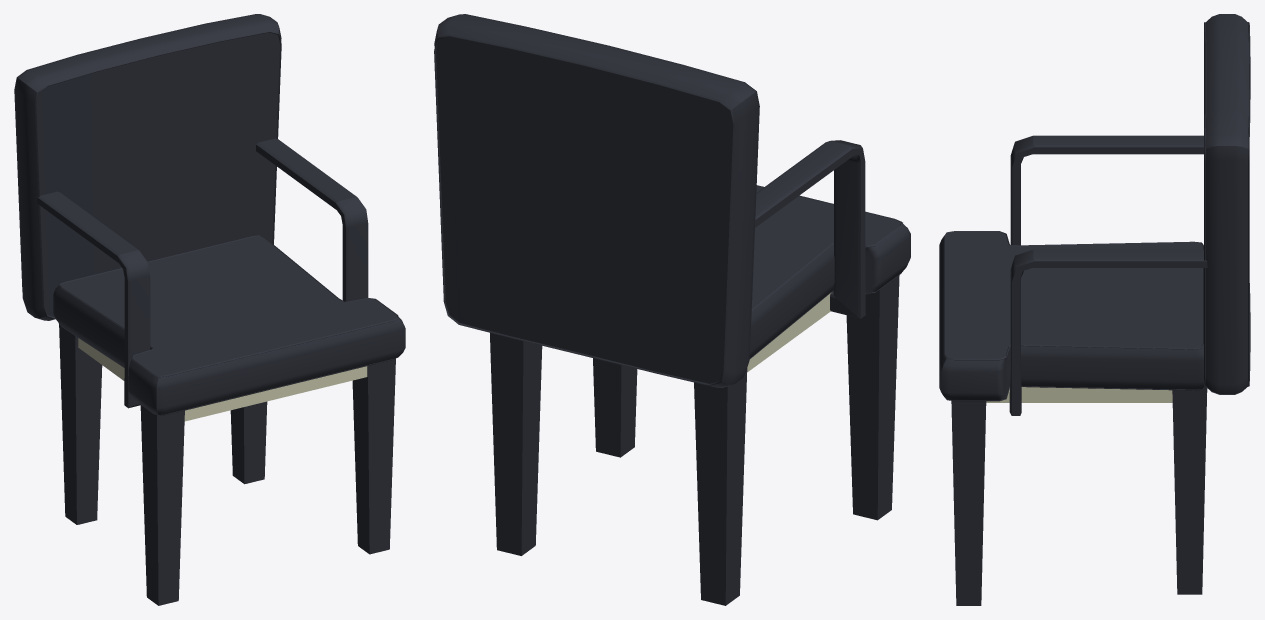
The model's file is m_duck_chair_lod1.fbx.
3 renders of one model, left to right at view 1: azimuth 30°, elevation 25°; view 2: azimuth 150°, elevation 25°; view 3: azimuth 270°, elevation 25°, orthographic. The views are drawn at different scales.
Visible parts, largest first — view 1: m_duck_chair_lod1_r:polySurface9; view 2: m_duck_chair_lod1_r:polySurface9; view 3: m_duck_chair_lod1_r:polySurface9.
Part boxes in pixels (x1,y1,x2,y2): m_duck_chair_lod1_r:polySurface9: (14, 14, 405, 605); m_duck_chair_lod1_r:polySurface9: (434, 14, 910, 605); m_duck_chair_lod1_r:polySurface9: (939, 14, 1250, 605).
Bounding box in the file's own units: 30.74 × 50.75 × 30.16.
